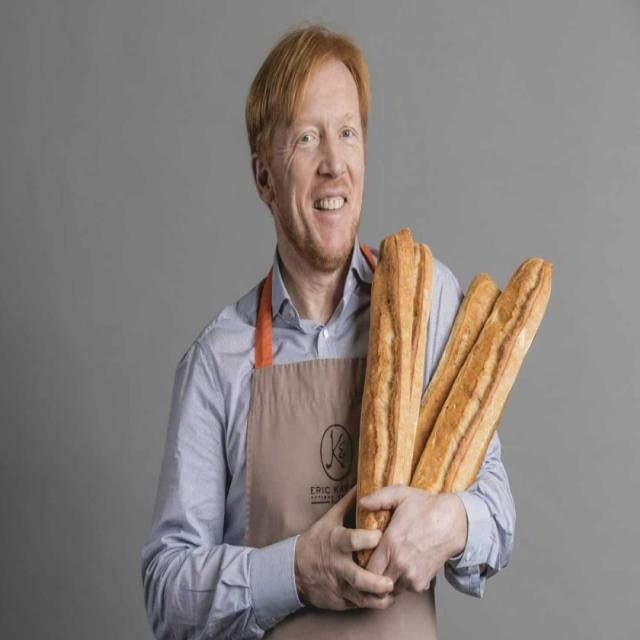Baguette: (410, 258, 551, 491), (358, 229, 433, 496), (410, 274, 500, 479)
